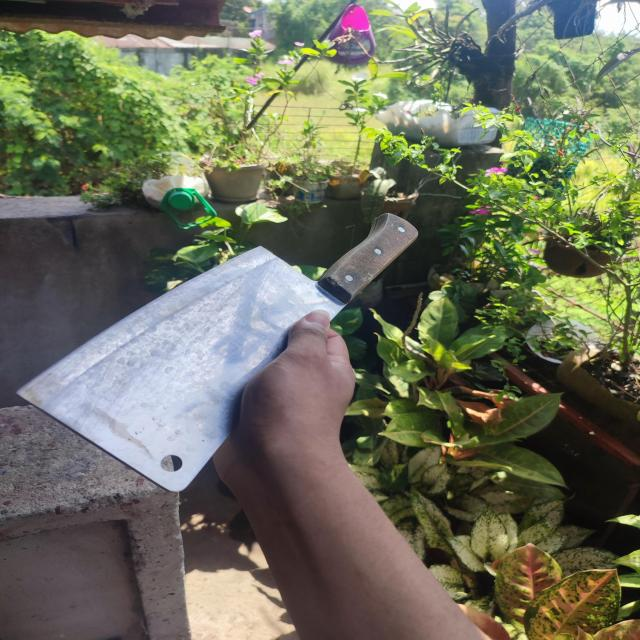knife: (18, 212, 420, 492)
